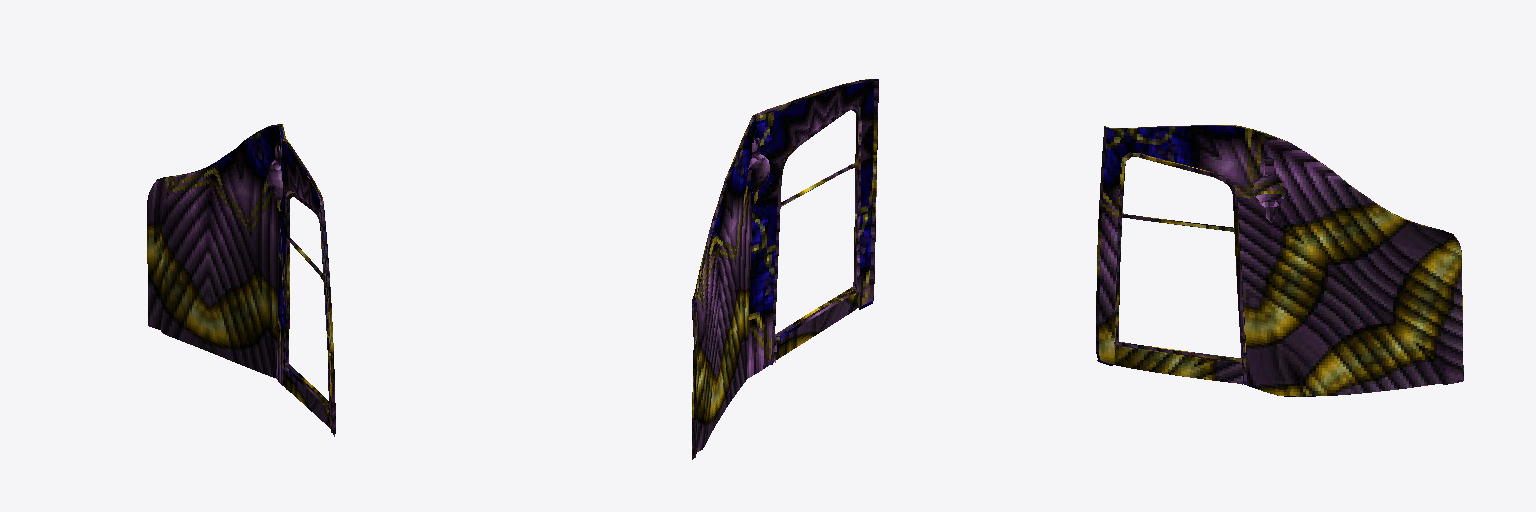
3 views of the same model, side by side, from view 1: azimuth 30°, elevation 25°; view 2: azimuth 150°, elevation 25°; view 3: azimuth 270°, elevation 25° (orthographic).
Visible parts, largest first — view 1: door_lr_ok01; view 2: door_lr_ok01; view 3: door_lr_ok01.
Boxes of the visible parts, box(x1,y1,x2,y2) form: door_lr_ok01: box(147, 124, 335, 436); door_lr_ok01: box(692, 79, 878, 459); door_lr_ok01: box(1096, 125, 1463, 396).
Size of the model in its own units: 0.1542 by 0.8302 by 1.03.
Materials: 1 (1 with a texture image).